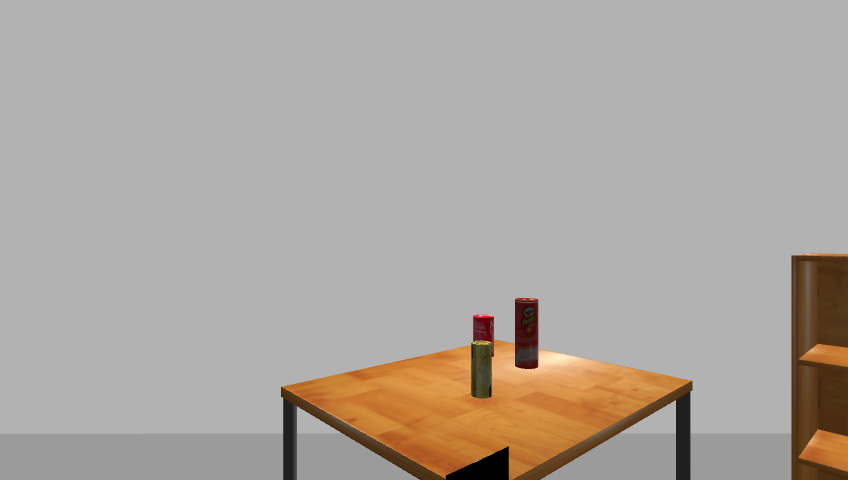aruco marker: (441, 447, 513, 480)
biscuits pack: (470, 341, 494, 399)
bookshelf: (787, 253, 848, 480)
coke can: (471, 314, 496, 360)
dinner table: (272, 342, 703, 479)
pringles can: (511, 297, 541, 370)
